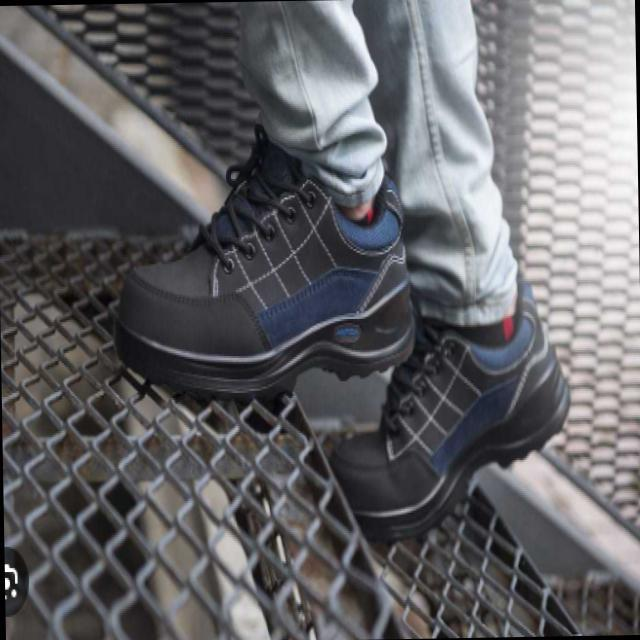boots: (110, 111, 577, 550)
